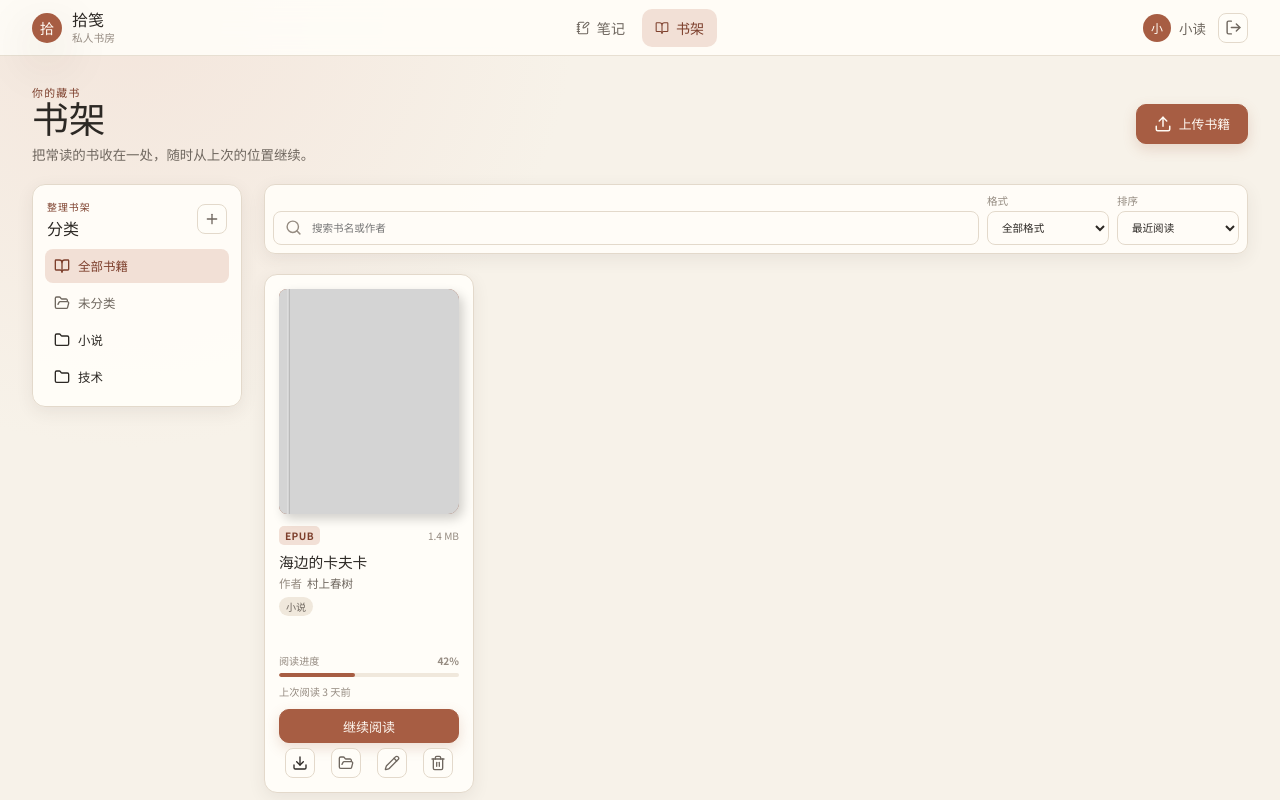
Test: BookLibraryPage › 点击用户信息打开设置框并保存显示名称
The image size is (1280, 800).
Check: the heading "海边的卡夫卡" is shown, box [279,555,367,571]
Click the button with aria-label "查看 小读 的用户信息和设置" at (1175, 28), box [1136,8,1213,46]
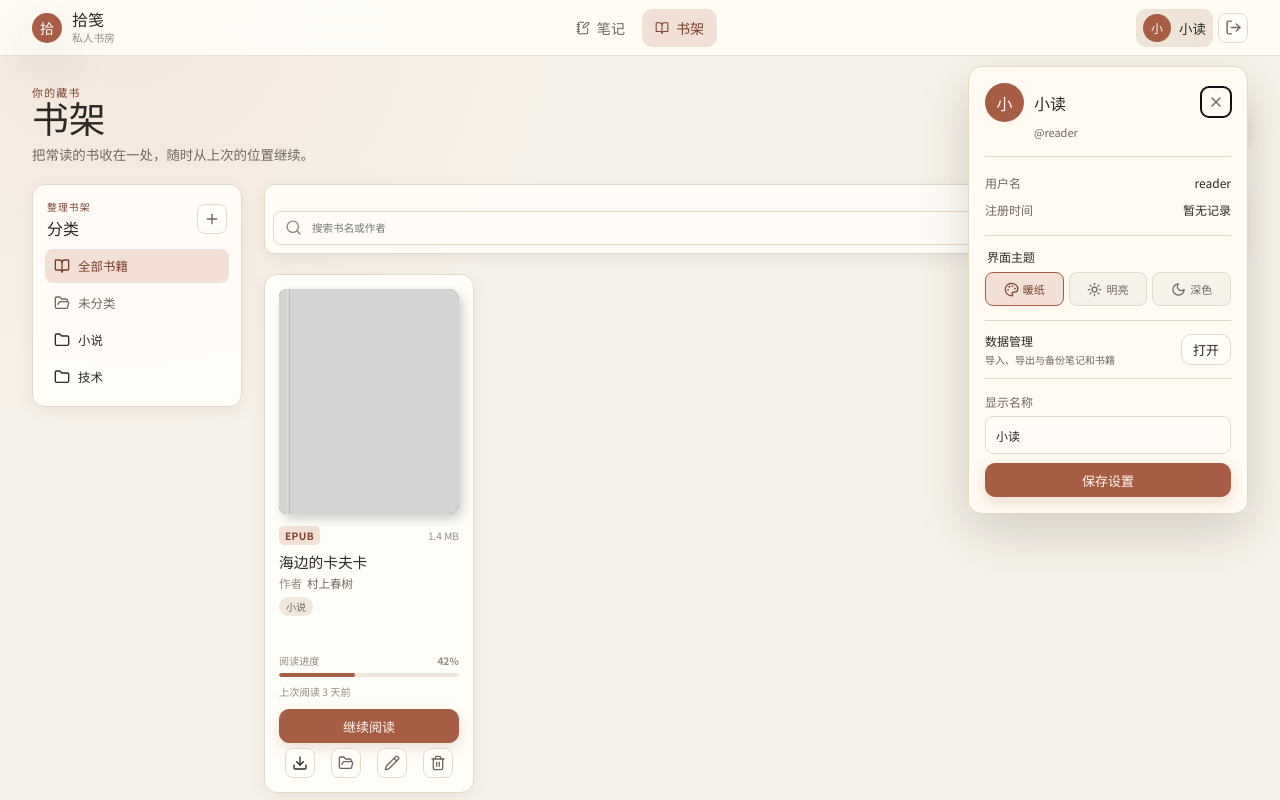
Check: the text "@reader" is shown, box [1034,124,1078,140]
Check: the radio button labelled "深色" is shown, box [1152,272,1231,306]
Replace the text in the field labelled "显示名称" with " 新名称 " at (1108, 435), box [985,416,1231,454]
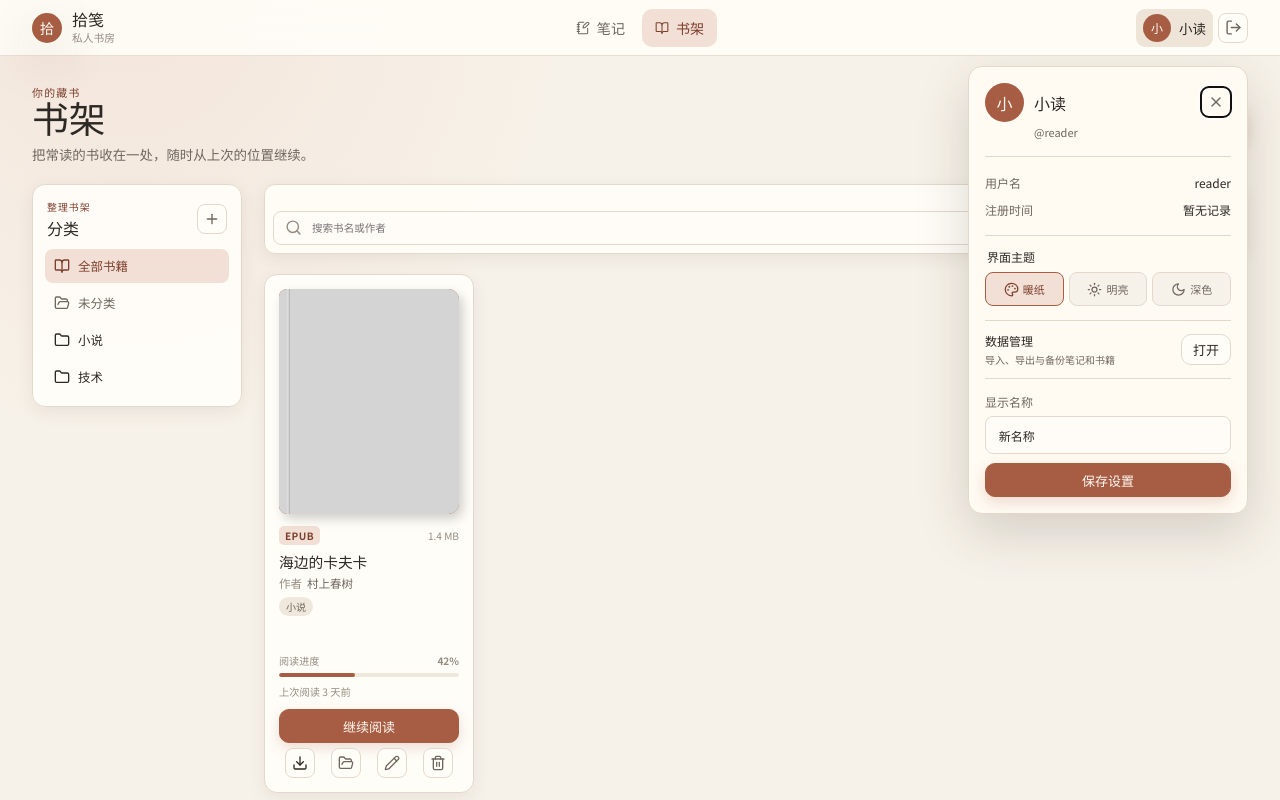
Click the button "保存设置" at (1108, 480), box [985,463,1231,497]
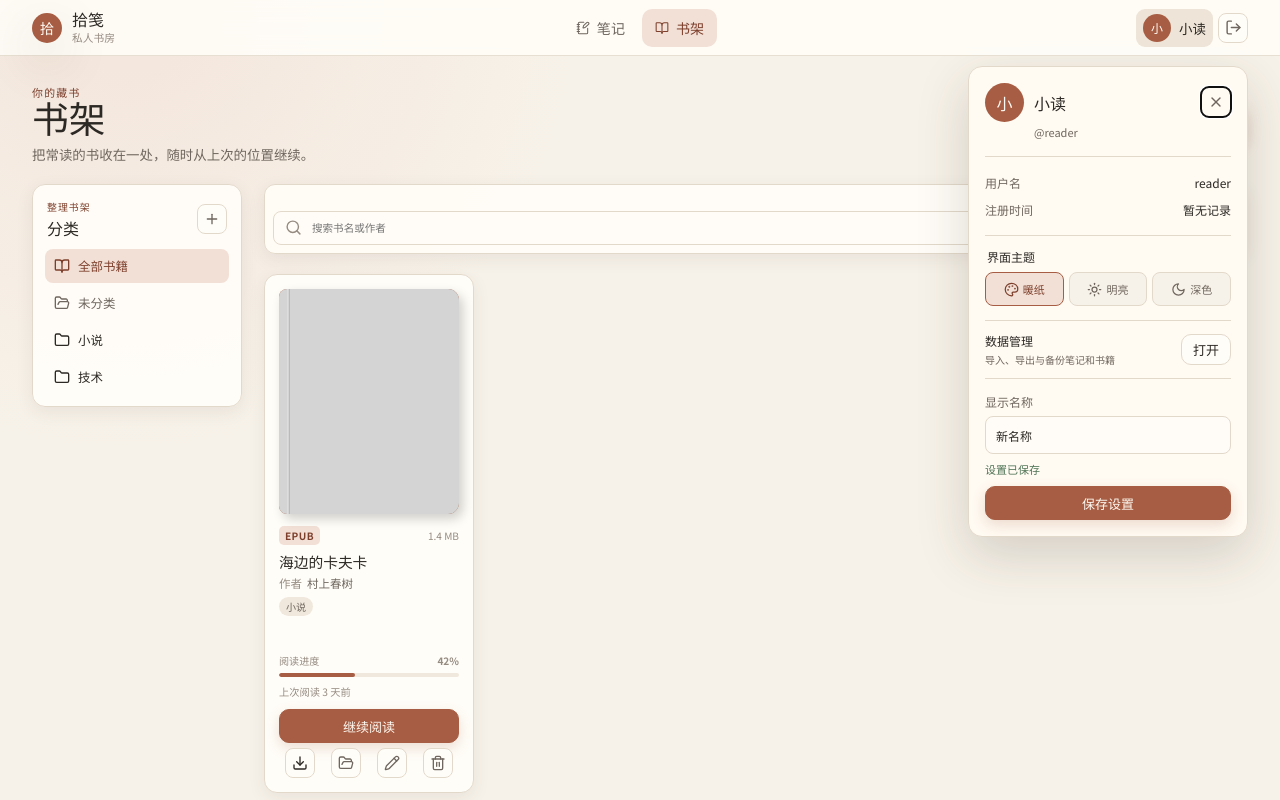
Check: the text "设置已保存" is shown, box [985,461,1040,477]
